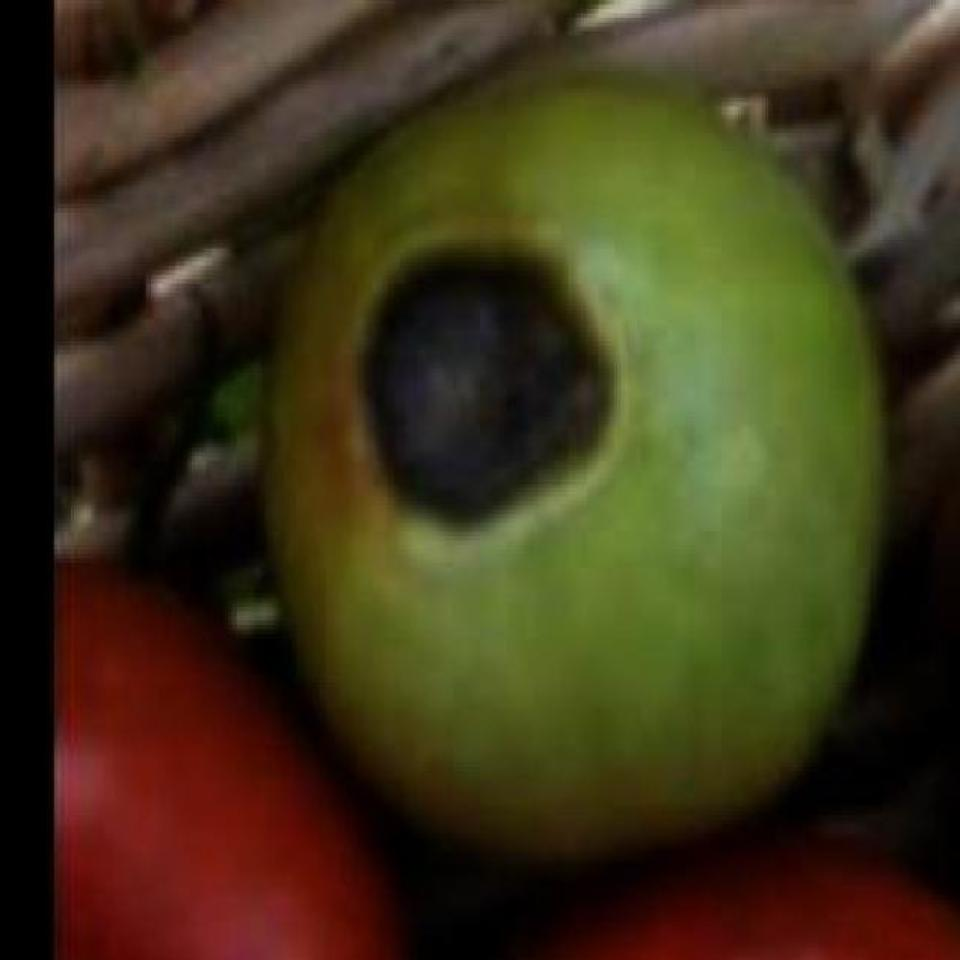Blossom_end_rot: (349, 224, 635, 582)
